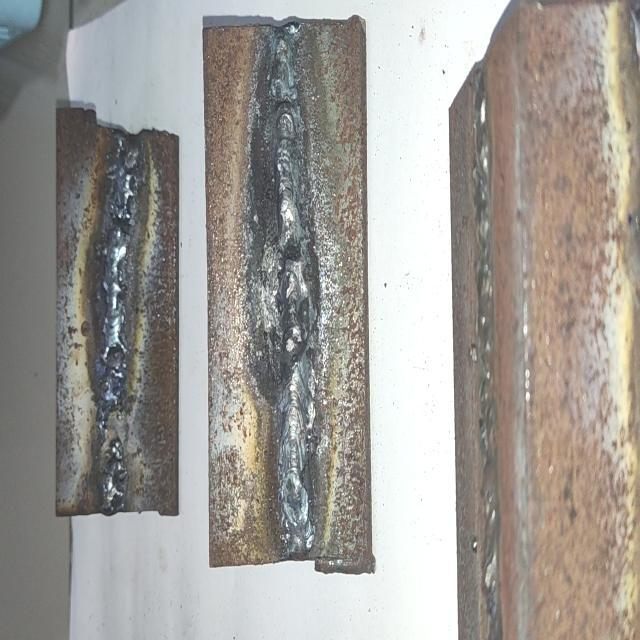Defect: (272, 231, 312, 360), (96, 140, 143, 249), (96, 366, 134, 474)
Welding Line: (274, 29, 308, 546), (102, 136, 132, 502)
Workpiece: (208, 10, 372, 574), (56, 114, 180, 516)
